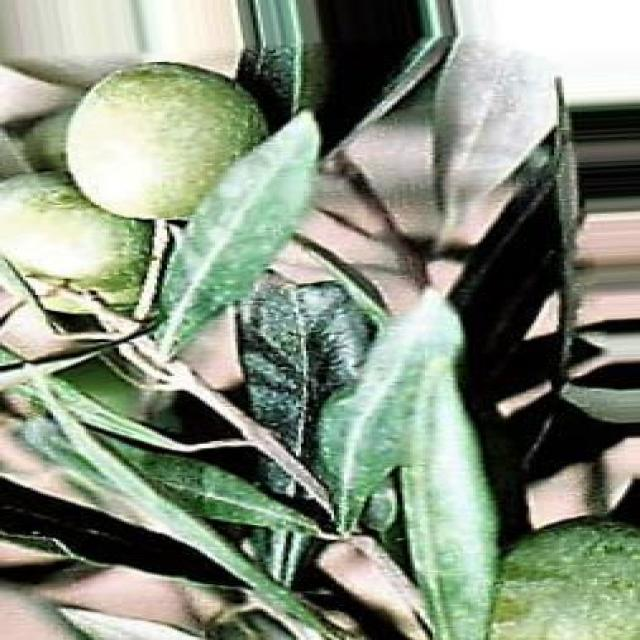Healthy: (159, 111, 319, 358), (68, 62, 264, 218)
